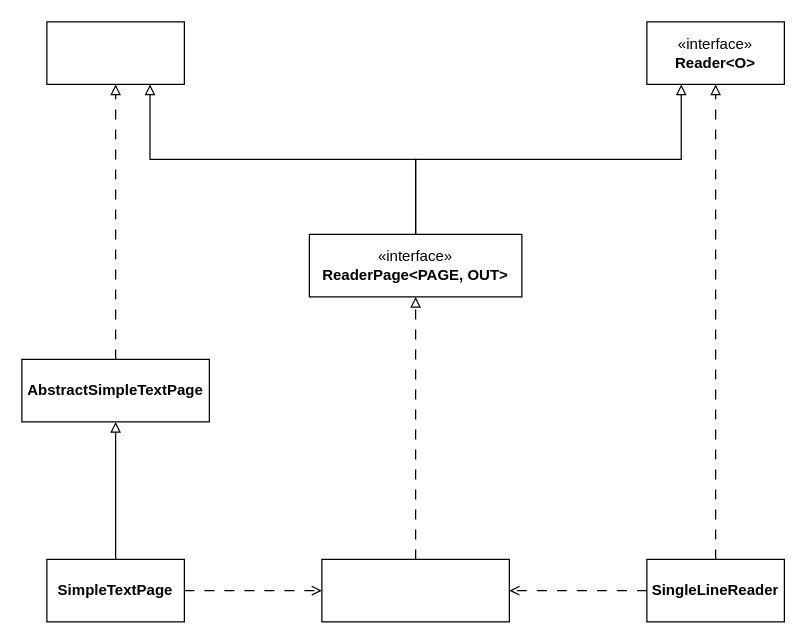
The diagram is 806 pixels wide and 644 high, and some of its shapes have lost their labels. The shapes that lost their labels are listed below. From the top down, each one's box as (x1, y1, x2, y2) in pixels, then its label:
(46, 21, 184, 84): «interface» Page<T>
(321, 558, 509, 622): SimpleTextReaderPage
